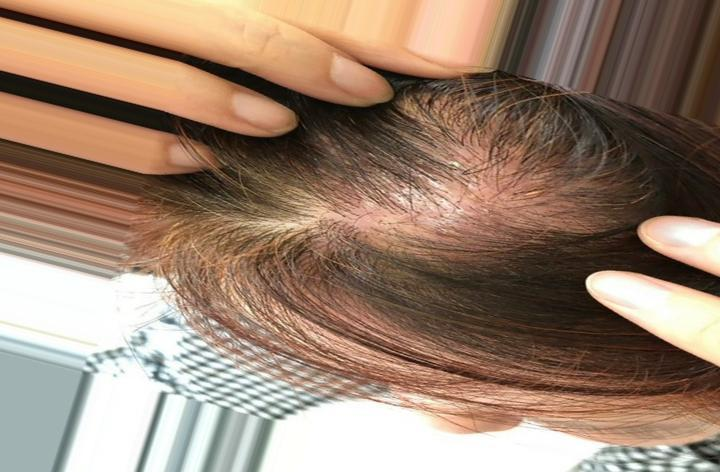Contact Dermatitis: (346, 105, 578, 264)
